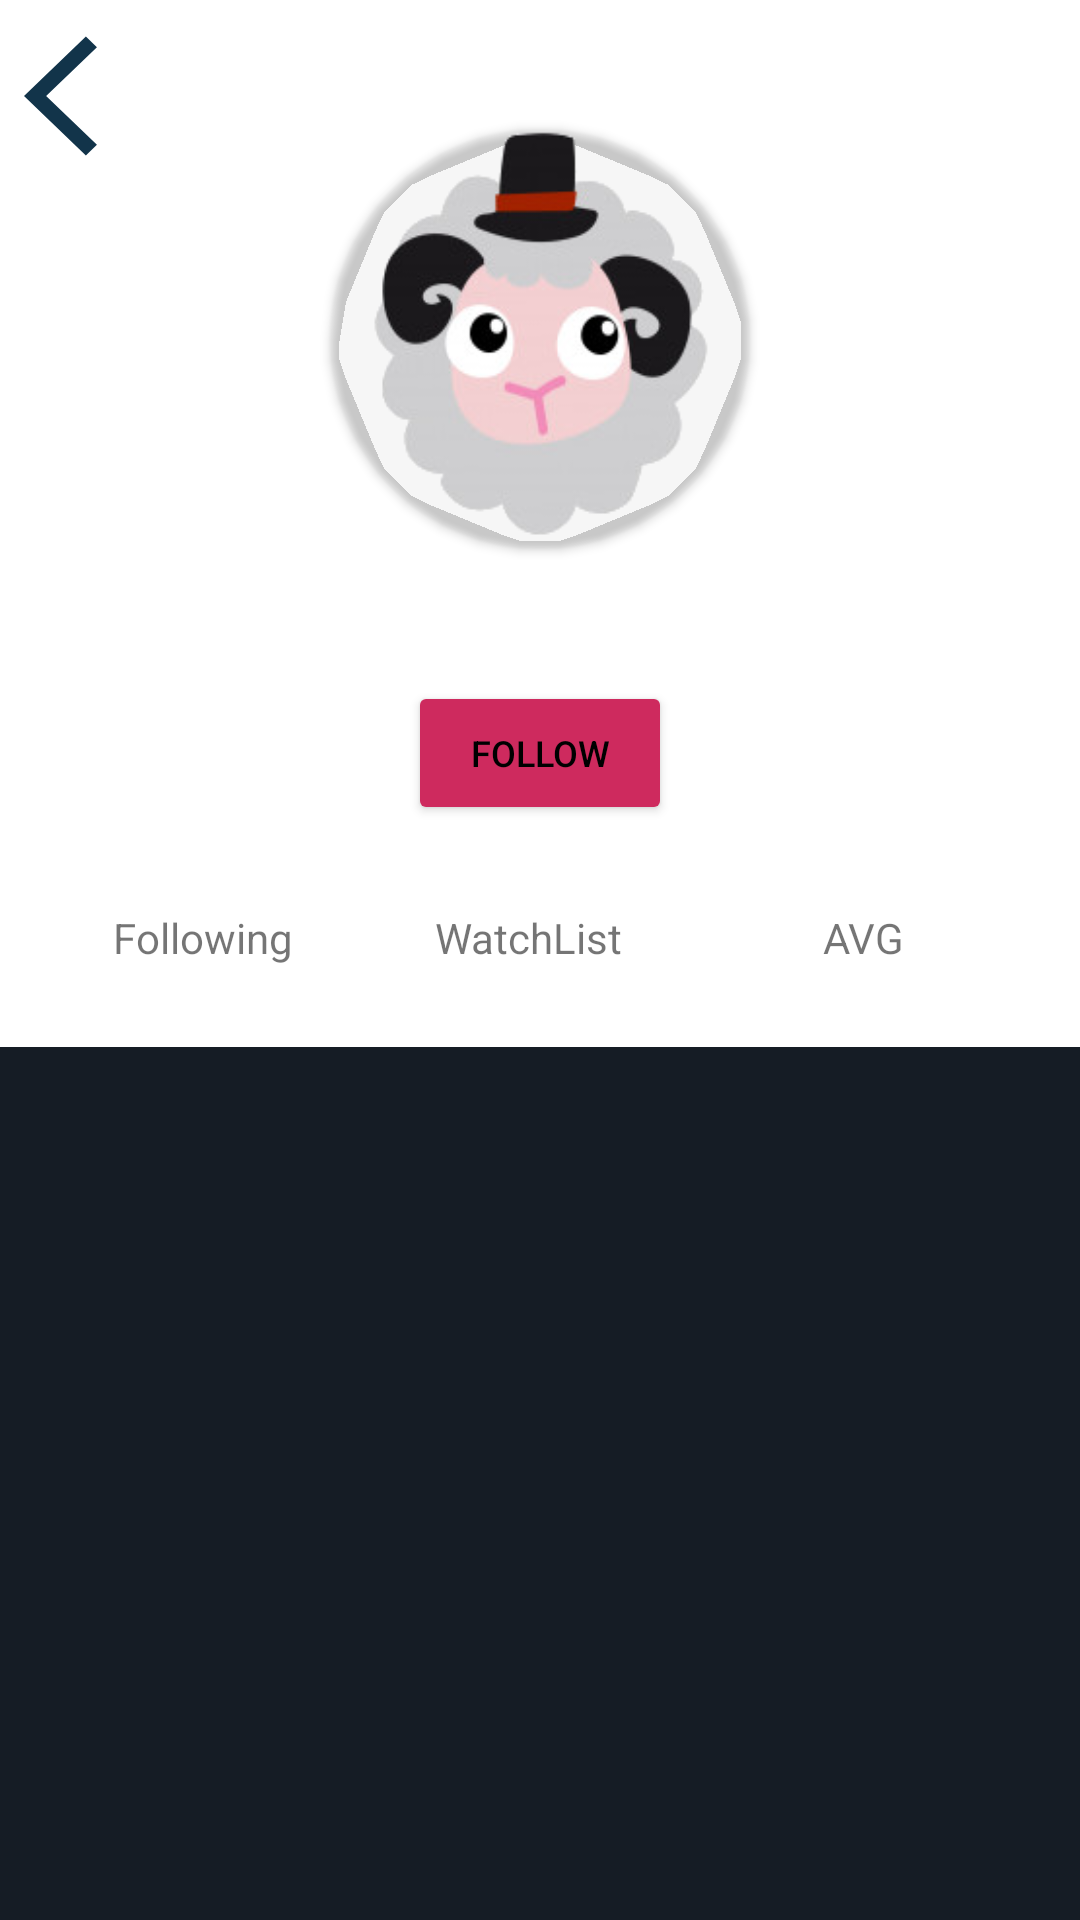

Screen size 1080x1920. Icon name, then its center in pixels as point (x, y):
arrow back: point (60, 96)
